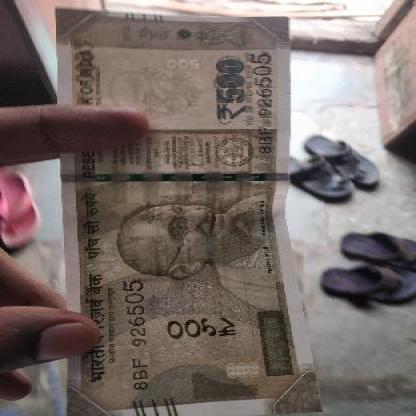New500Front: (52, 7, 302, 415)
